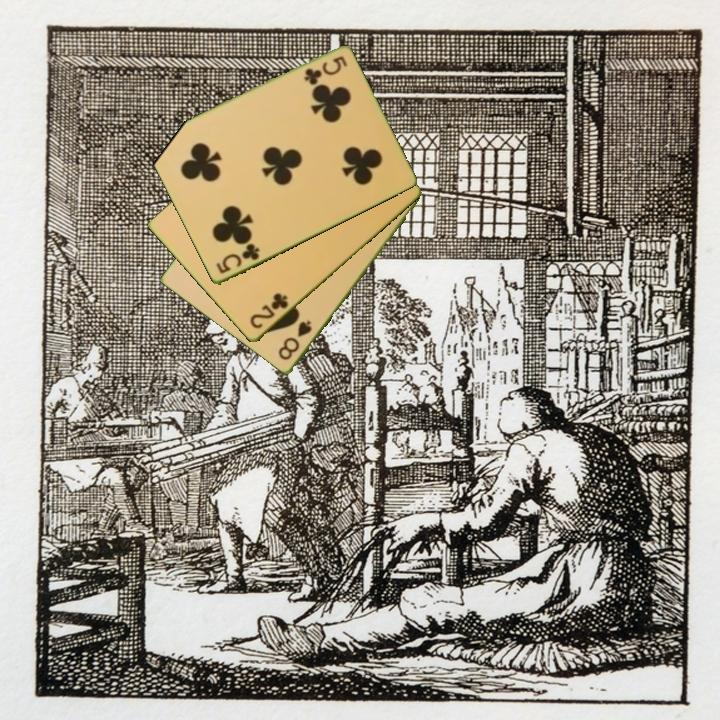2c: (246, 290, 291, 332)
5c: (212, 240, 263, 277), (300, 52, 350, 87)
8s: (275, 317, 315, 363)
